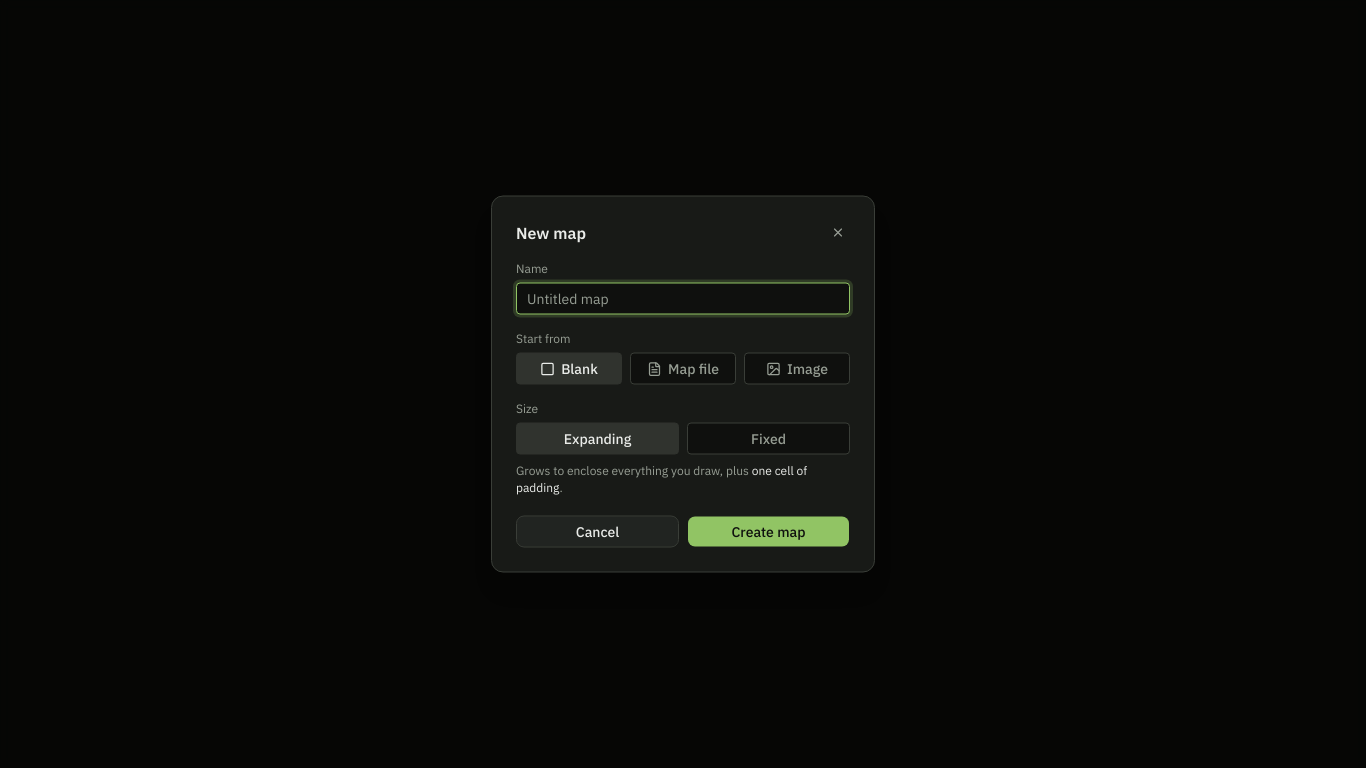
Test: NewMapDialog › refuses a size that is not whole cells rather than letting it through
Click the button "Fixed" at (768, 438), box [687,422,850,454]
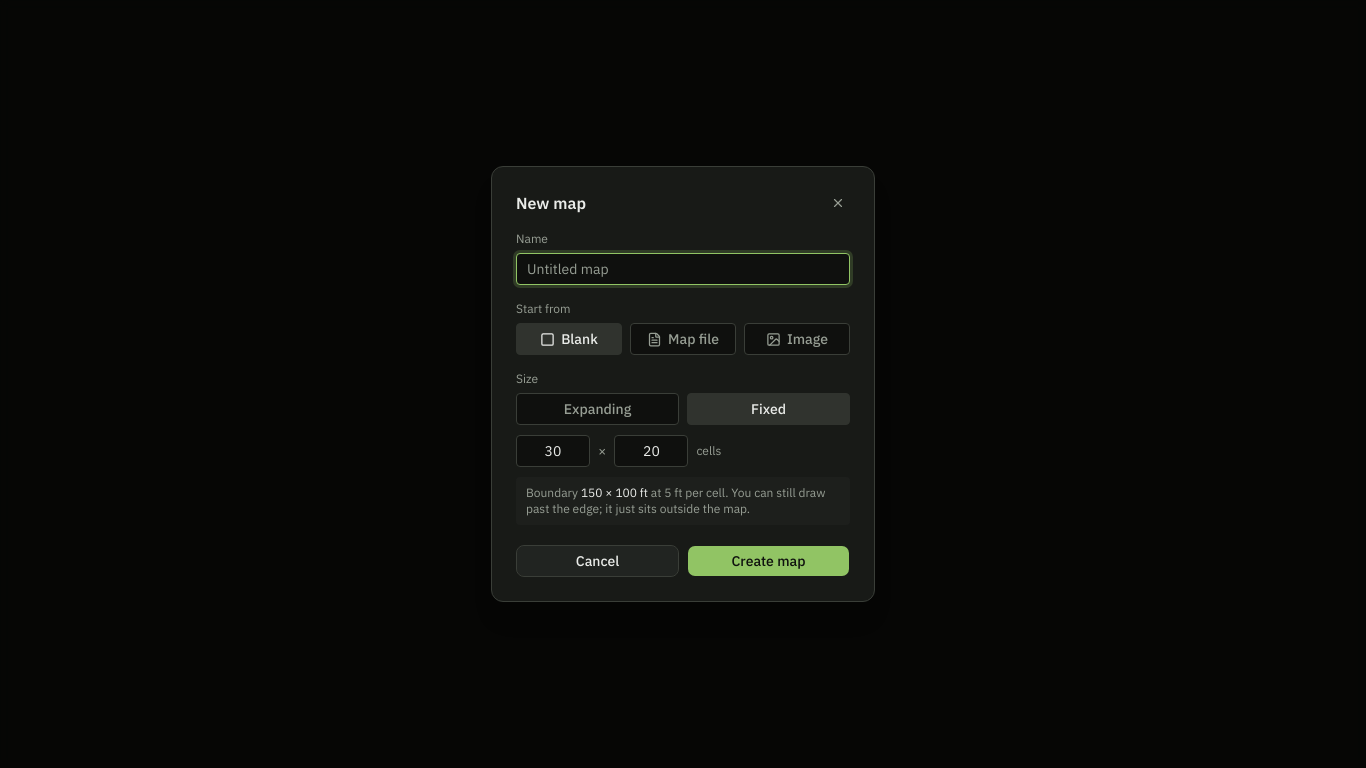
Replace the text in the field with test id "new-map-width" with "12.5" at (553, 451), box [516,435,590,467]
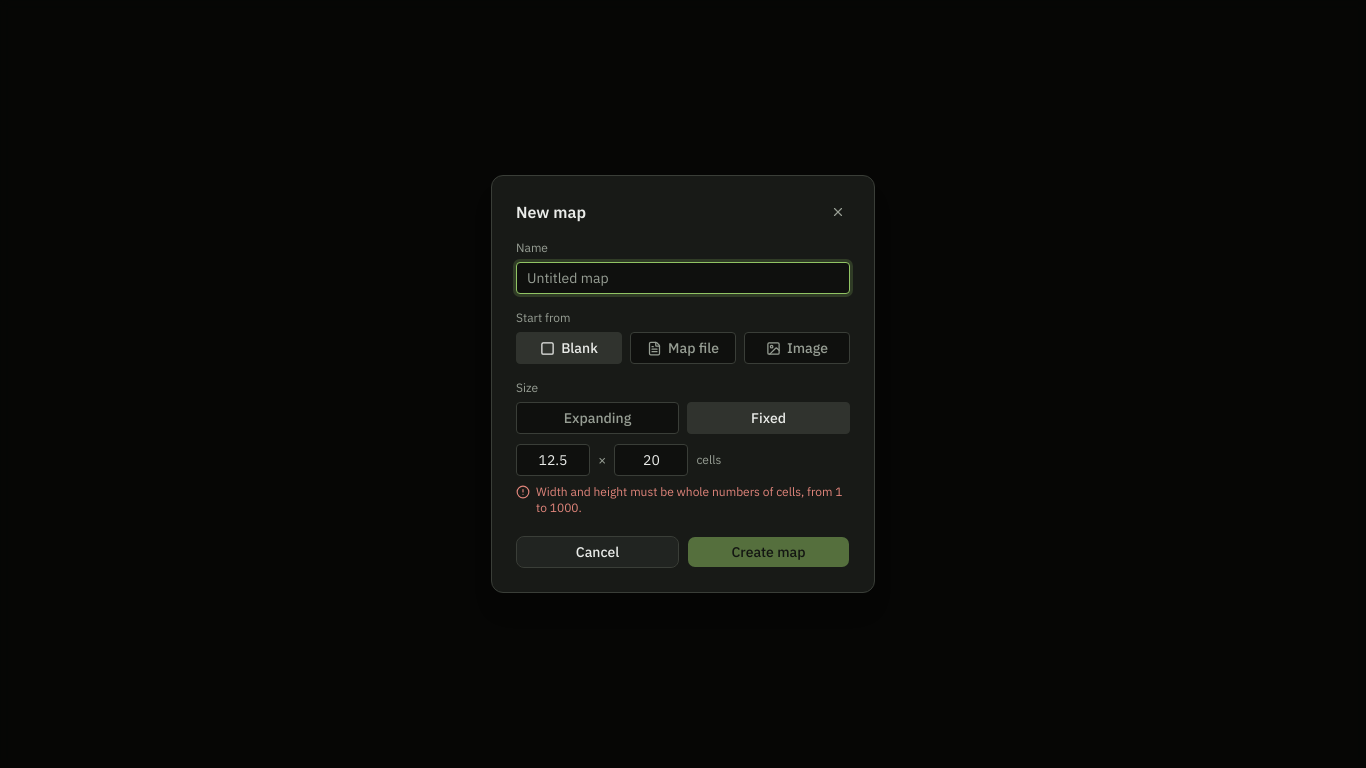
Expected: the message shows "whole numbers of cells", [536,484,842,515]
Expected: the button with test id "new-map-submit" is disabled, [687,536,850,568]
